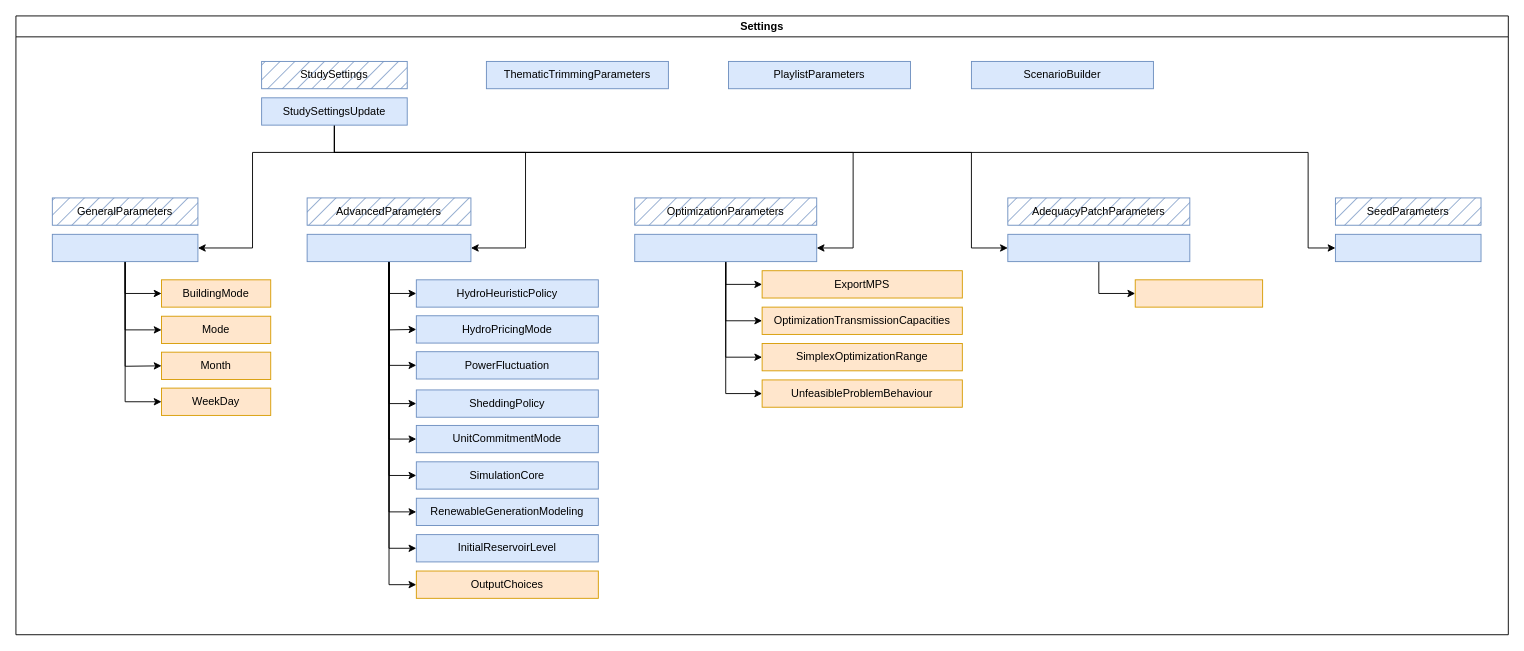
This 1524x651 diagram has some shape labels left out. The shapes that lost their labels are listed below. From the top down, each one's box as (x1, y1, x2, y2) in pixels, then its label:
(51, 233, 198, 262): GeneralParametersUpdate
(306, 233, 471, 262): AdvancedParametersUpdate
(634, 233, 817, 262): OptimizationParametersUpdate
(1007, 233, 1190, 262): AdequacyPatchParametersUpdate
(1335, 233, 1481, 262): SeedParametersUpdate
(1134, 279, 1263, 307): PriceTakingOrder
